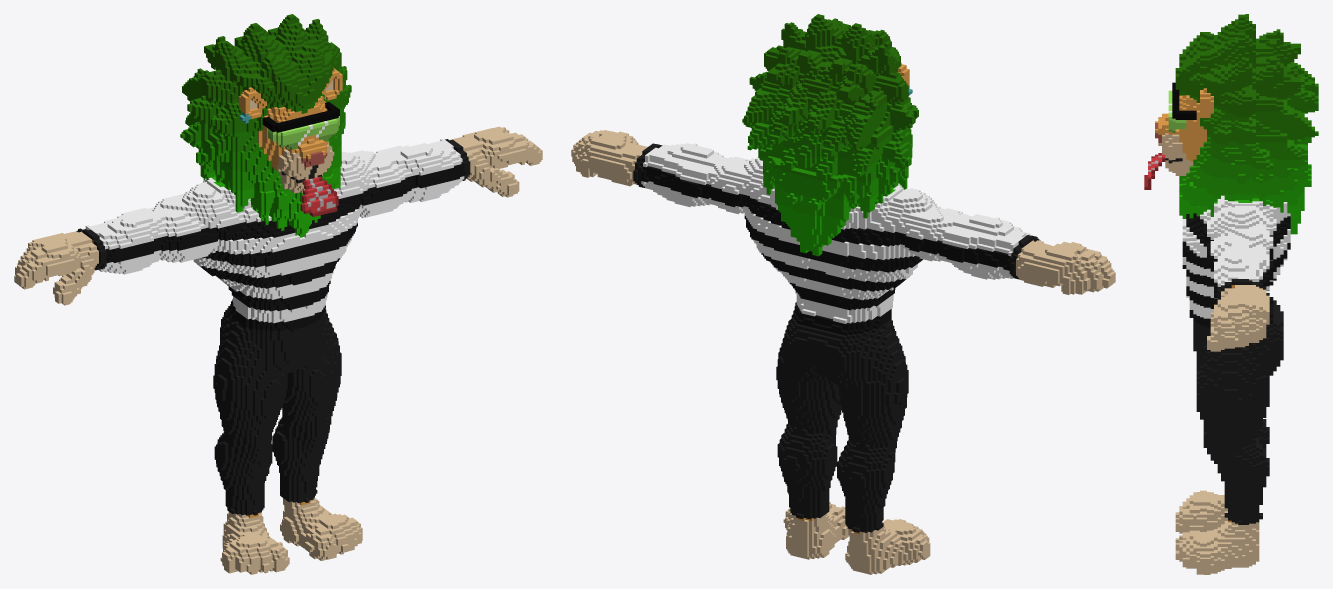
The model's file is 340-B_IMbF3b.fbx.
3 views of the same model, side by side, from view 1: azimuth 30°, elevation 25°; view 2: azimuth 150°, elevation 25°; view 3: azimuth 270°, elevation 25° (orthographic). The views are drawn at different scales.
Parts seen in each view (by area): view 1: meat; view 2: meat; view 3: meat.
Boxes of the visible parts, left/top/right/bottom form: meat: left=14, top=14, right=542, bottom=574; meat: left=571, top=14, right=1115, bottom=574; meat: left=1144, top=14, right=1318, bottom=574.
Bounding box in the file's own units: 17.2 × 16.5 × 5.
Materials: 6 (6 with a texture image).
